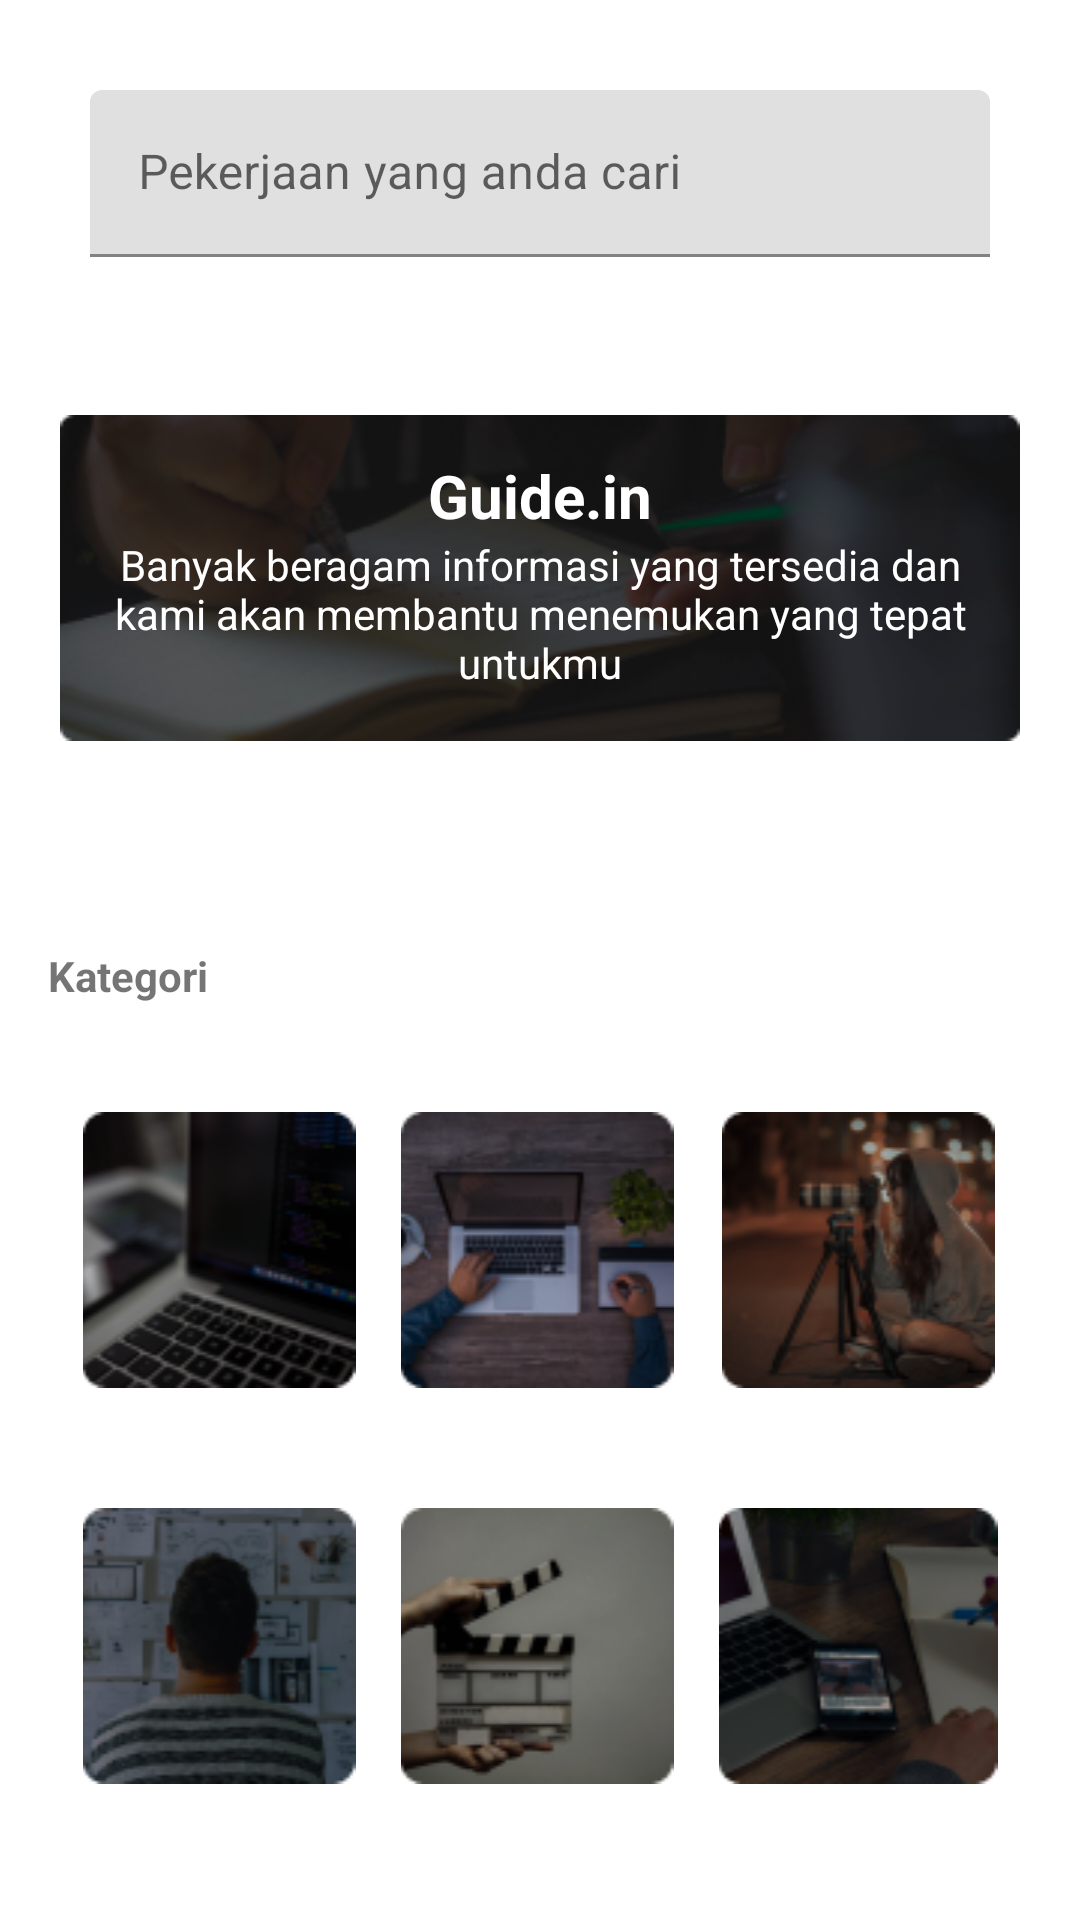

Icons on this 1080×1920 Android screen, each with the point to tap as (x,y):
fotografi: (858,1250)
pemrograman: (219,1250)
video: (537,1646)
